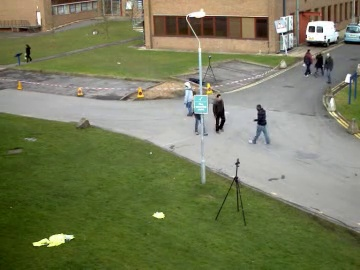person: (188, 97, 204, 136), (209, 91, 224, 132), (210, 92, 224, 132)
